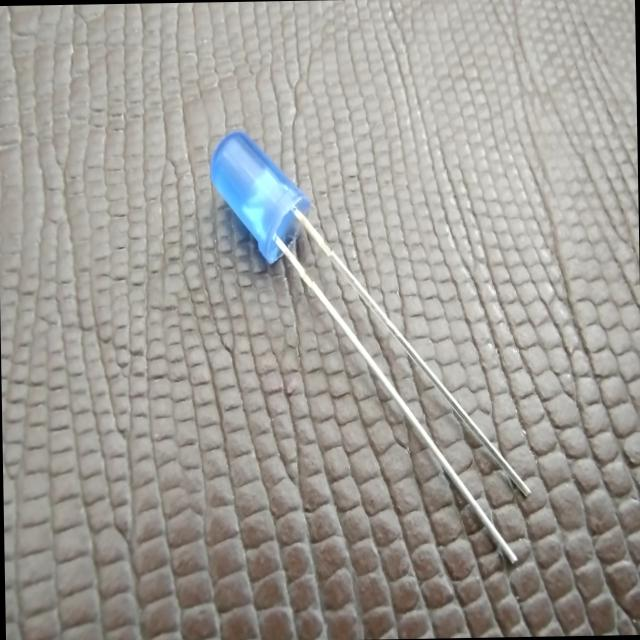blue_led: (208, 127, 311, 267)
